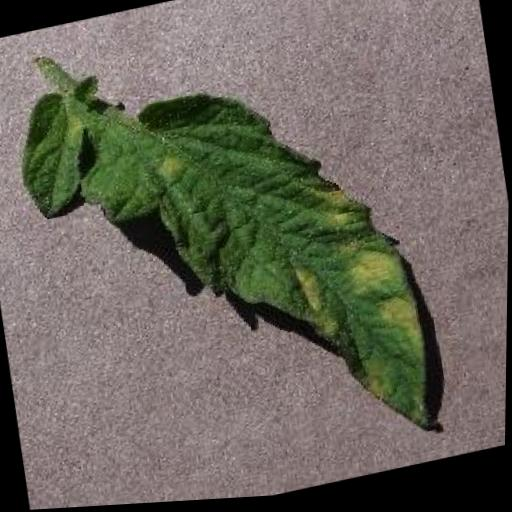Leaf Mold: (5, 22, 443, 511)
